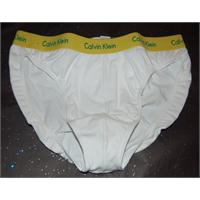mutande: (8, 30, 190, 172)
